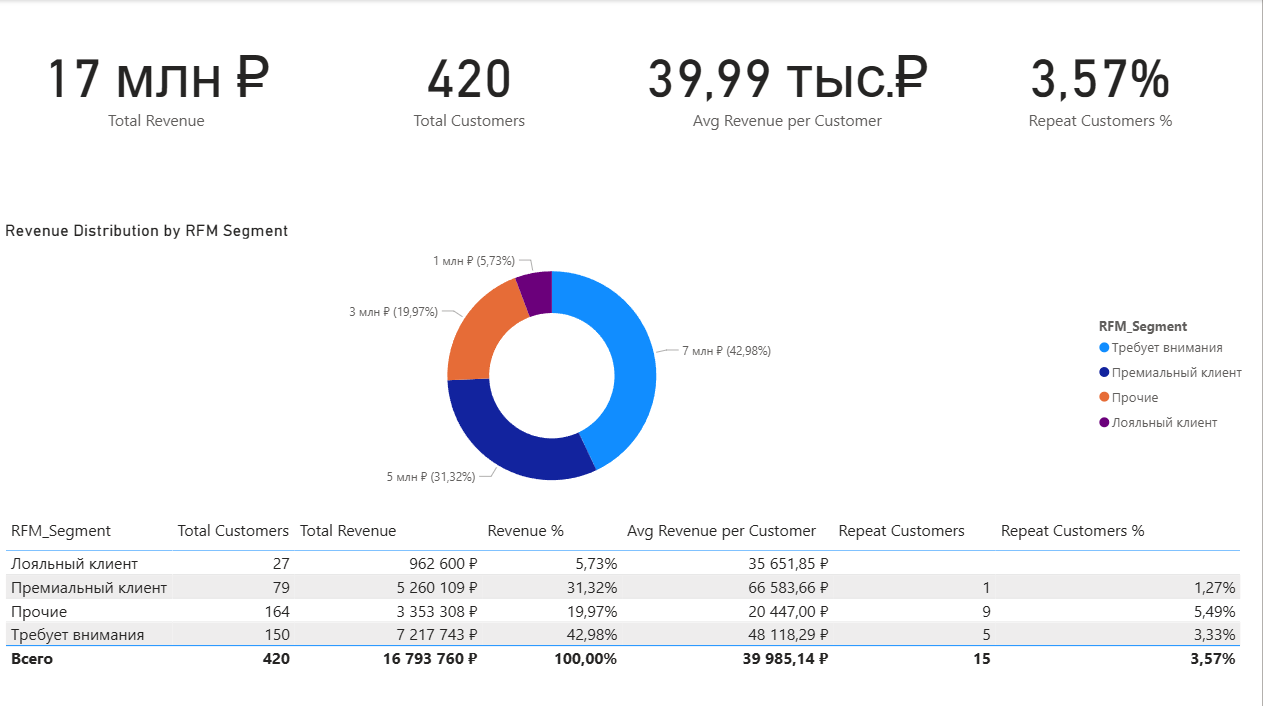

The dashboard page shown, as its layout file describes it:
{"tool":"powerbi","page":{"name":"RFM-анализ клиентской базы","canvas":[1280,720],"ordinal":1},"visuals":[{"type":"card","fields":{"Values":["Меры.Revenue"]},"box":[0,0,317.1,166.3],"z":0},{"type":"card","fields":{"Values":["Меры.Total Customers"]},"box":[317.1,0,317.1,166.3],"z":1000},{"type":"card","fields":{"Values":["Меры.Avg Revenue per Customer"]},"box":[640,0,317.1,166.3],"z":2000},{"type":"card","fields":{"Values":["Меры.Repeat Customers %"]},"box":[957.1,0,317.1,166.3],"z":3000},{"type":"tableEx","fields":{"Values":["Customers.RFM_Segment","Меры.Total Customers","Меры.Revenue","Меры.Revenue %","Меры.Avg Revenue per Customer","Меры.Repeat Customers","Меры.Repeat Customers %"]},"box":[0,520,1280,199.8],"z":4000},{"type":"donutChart","title":"Revenue Distribution by RFM Segment","fields":{"Category":["Customers.RFM_Segment"],"Y":["Меры.Revenue"]},"box":[0,223.2,1274.4,296.8],"z":5000}]}

Visuals, with their boxes in screenshot pixels (x1, y1, x2, y2), scaled from the page's 1280x720 canvas onto the 1263x706 screenshot:
card - Меры.Revenue: 0:0:313:163
card - Меры.Total Customers: 313:0:626:163
card - Меры.Avg Revenue per Customer: 632:0:944:163
card - Меры.Repeat Customers %: 944:0:1257:163
tableEx - Customers.RFM_Segment x Меры.Total Customers: 0:510:1262:705
"Revenue Distribution by RFM Segment" donutChart: 0:219:1257:510
